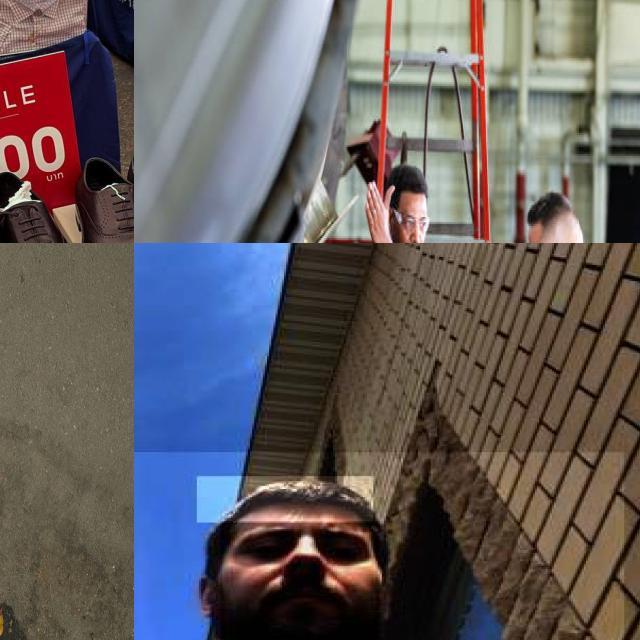No_Ear-Protection: (388, 207, 396, 231)
Sandals: (0, 148, 100, 243), (68, 133, 134, 243)
face_nomask: (220, 521, 379, 640), (389, 212, 424, 243)
glasses: (393, 209, 429, 234)
hand_noglove: (366, 183, 394, 243)
head_nohelmet: (197, 476, 373, 523), (387, 164, 427, 209), (527, 191, 574, 226)
person: (134, 452, 626, 640)
